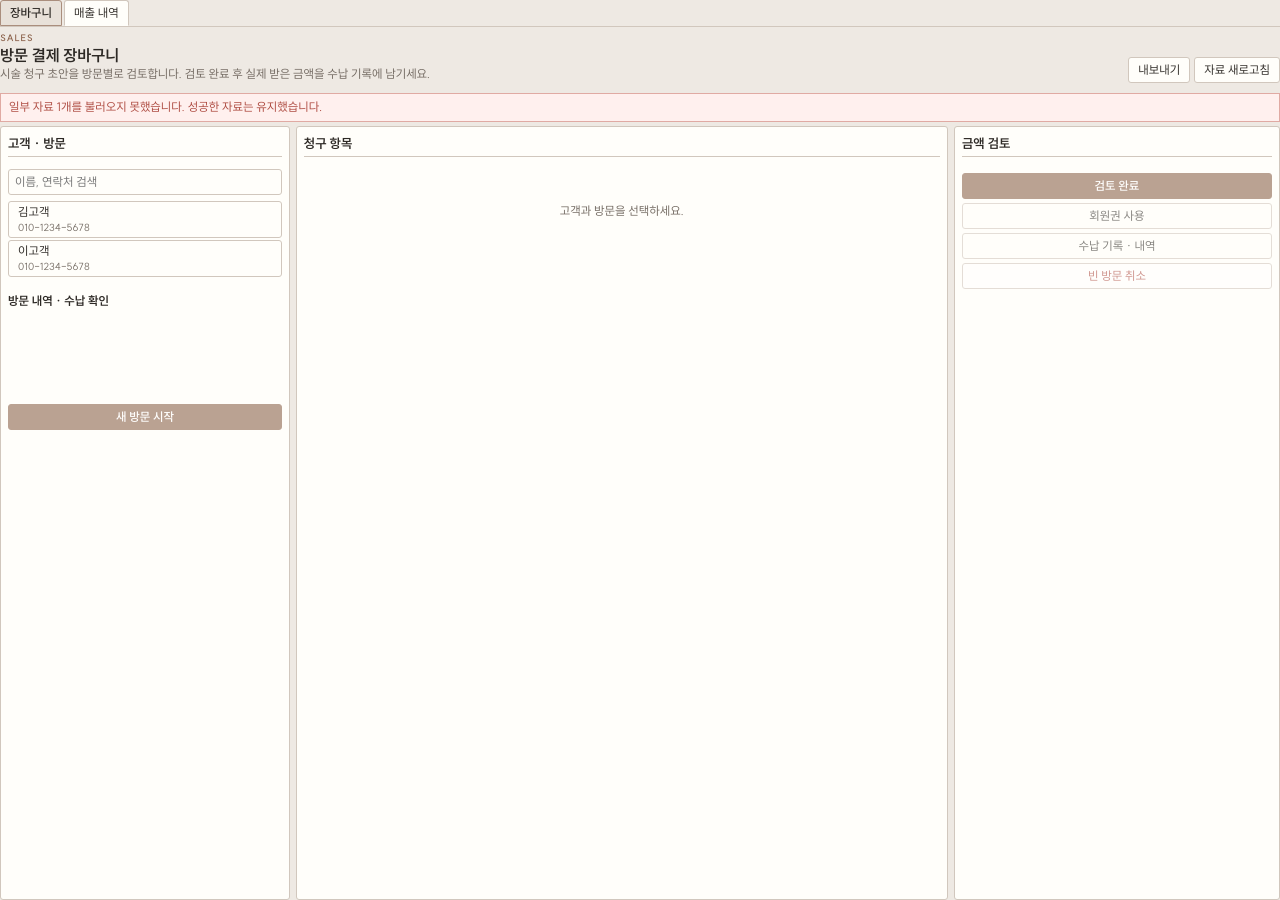
Test: 매출 내역 탭 › 잘못된 조건은 요청하지 않고 안내하며, 초기화하면 조건 없이 다시 조회한다
Expected: the heading "방문 결제 장바구니" is shown, [0,45,119,65]
Click the tab "매출 내역" at (96, 13), box [64,0,129,26]
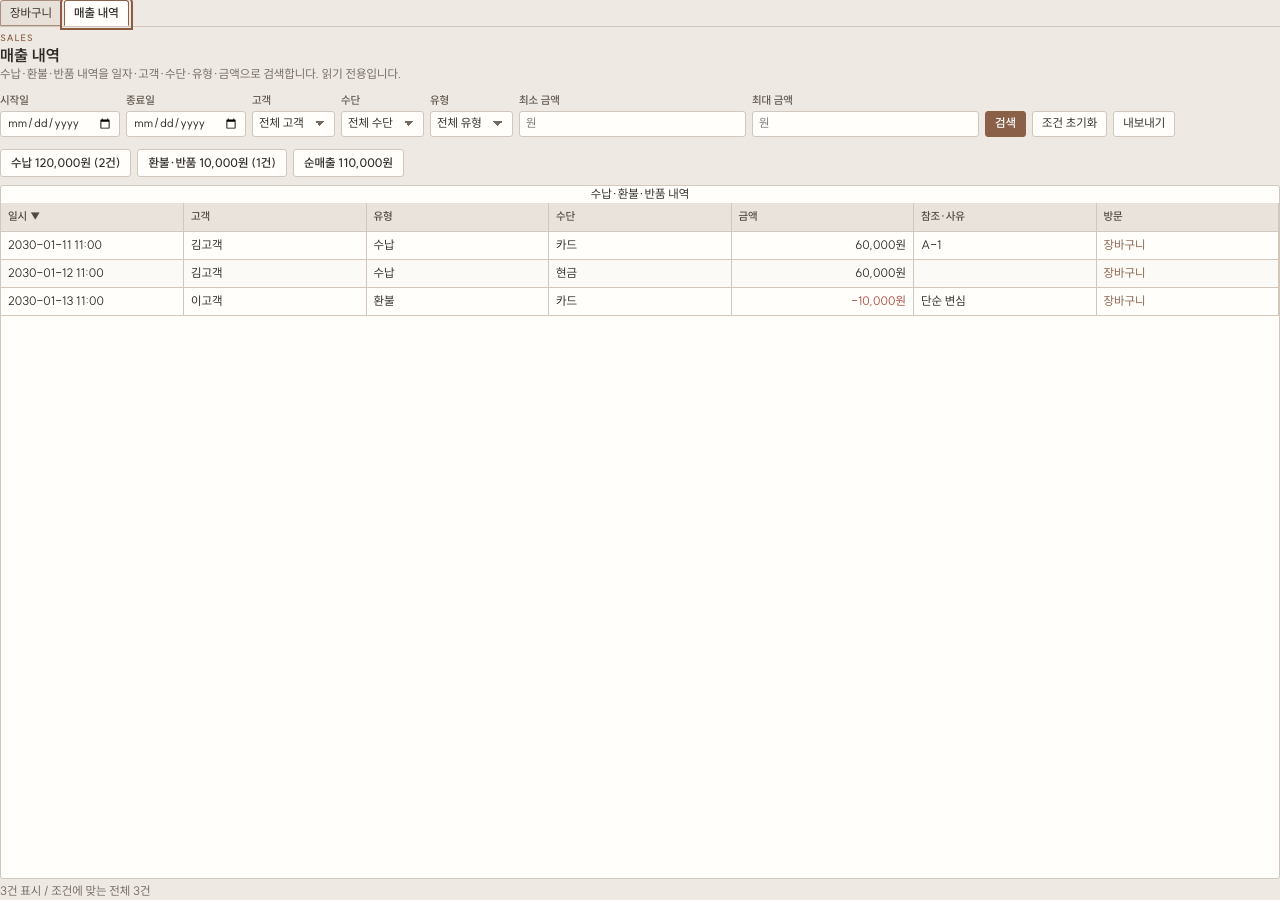
Result: the text "A-1" is shown at [914,231,1096,259]
Type "500" into the field labelled "최소 금액" at (632, 124), box [519,111,746,137]
Type "100" into the field labelled "최대 금액" at (866, 124), box [752,111,979,137]
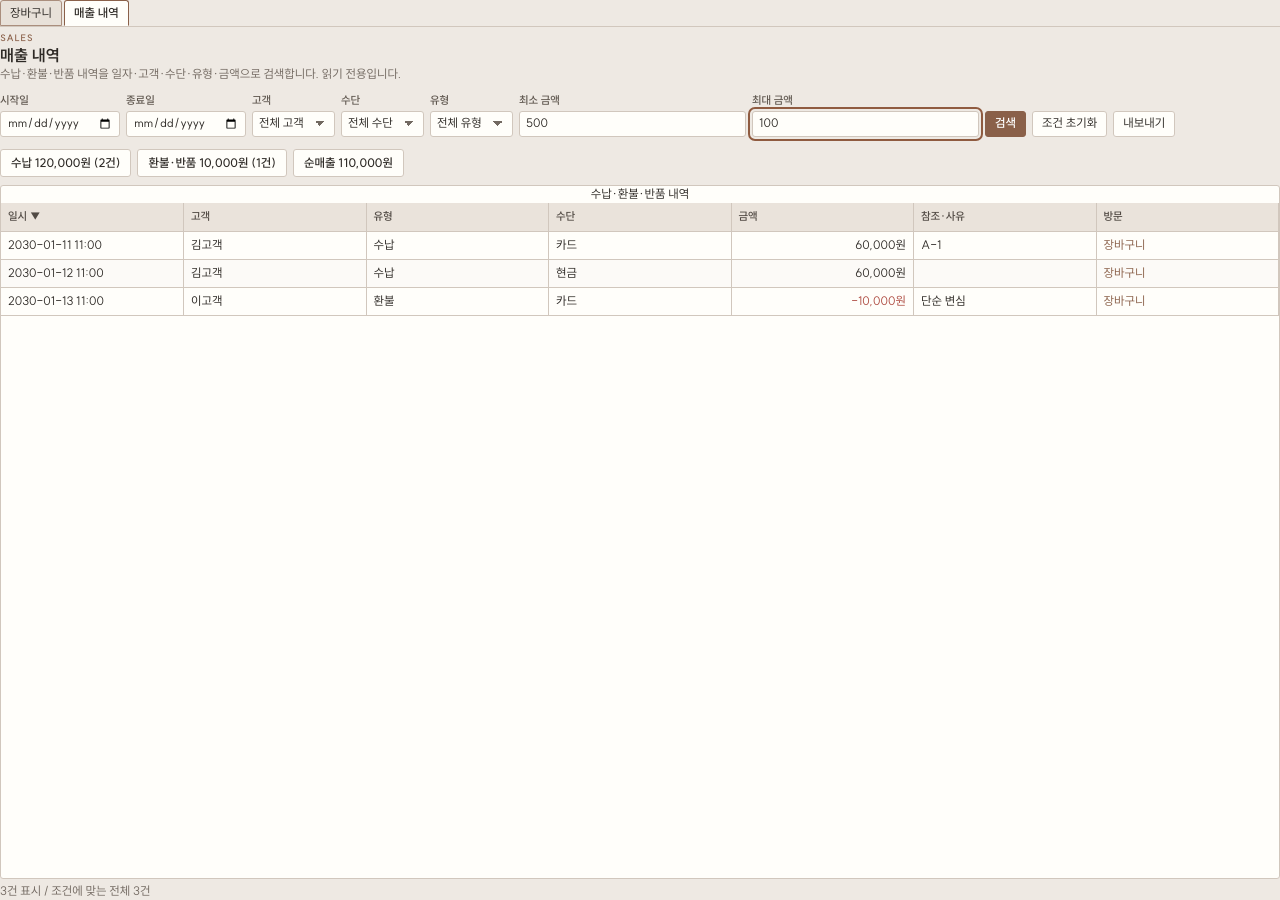
Click the button "검색" at (1006, 124), box [985,111,1026,137]
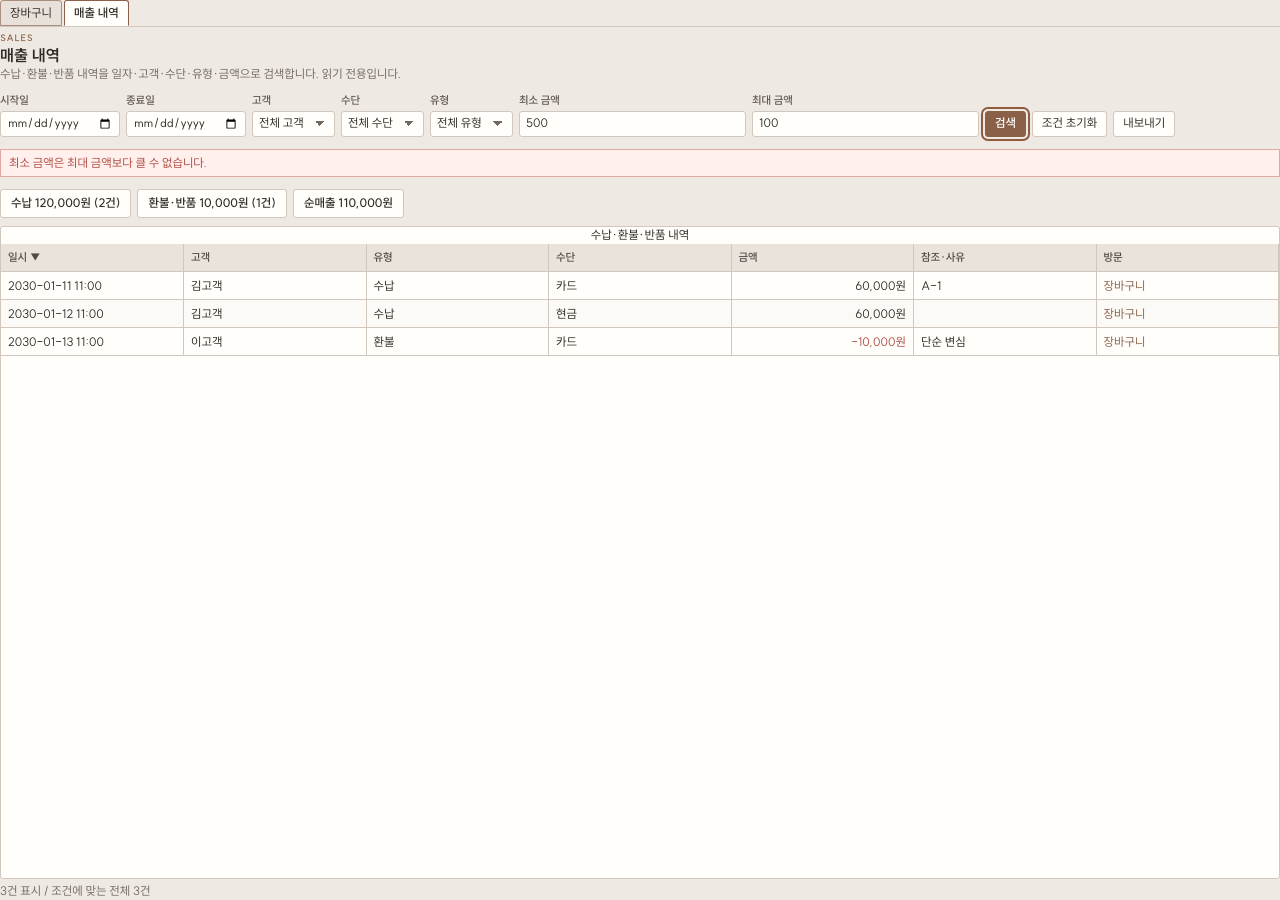
Result: the text "최소 금액은 최대 금액보다 클 수 없습니다." is shown at [0,149,1279,177]
Replace the text in the field labelled "최대 금액" with "x" at (866, 124), box [752,111,979,137]
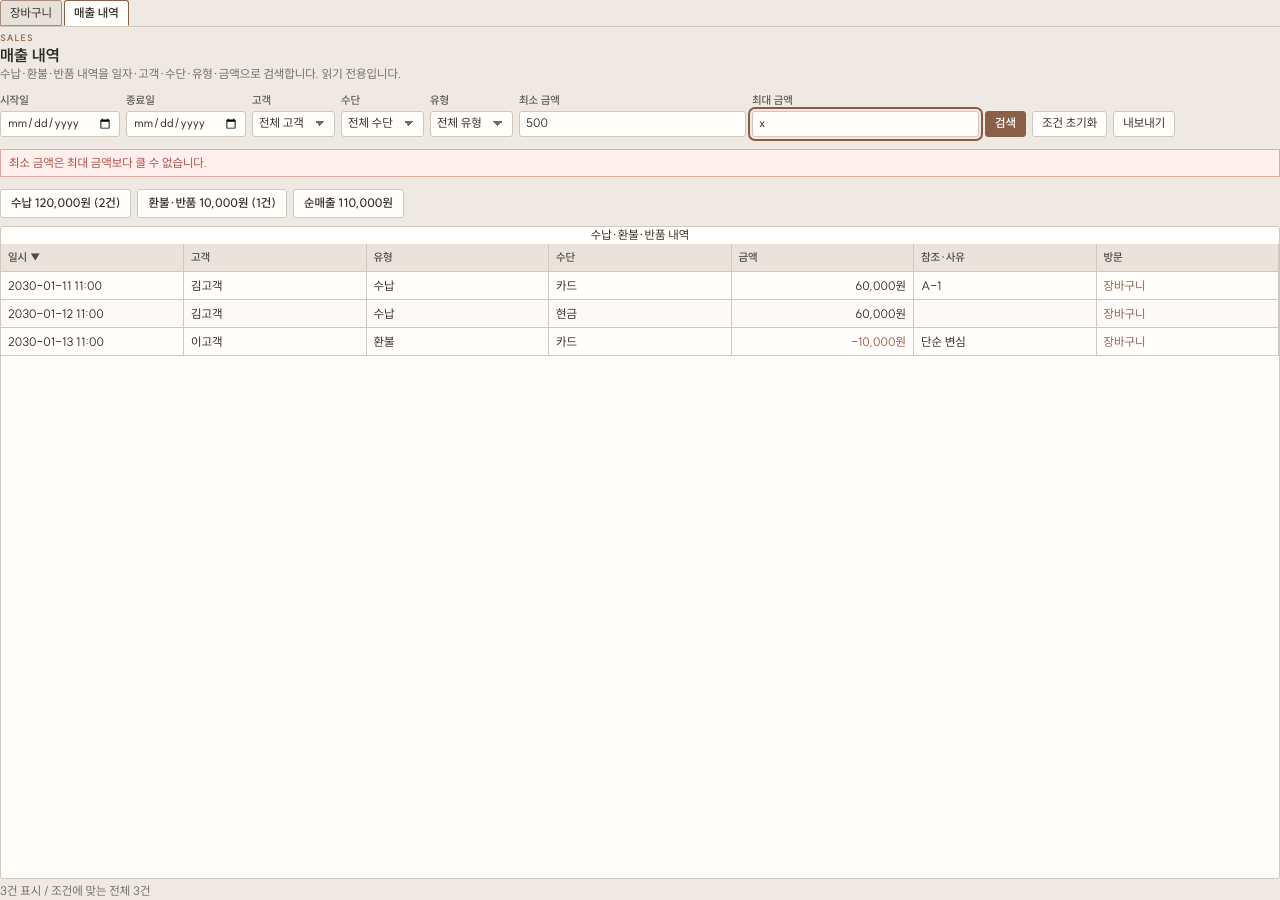
Click the button "검색" at (1006, 124), box [985,111,1026,137]
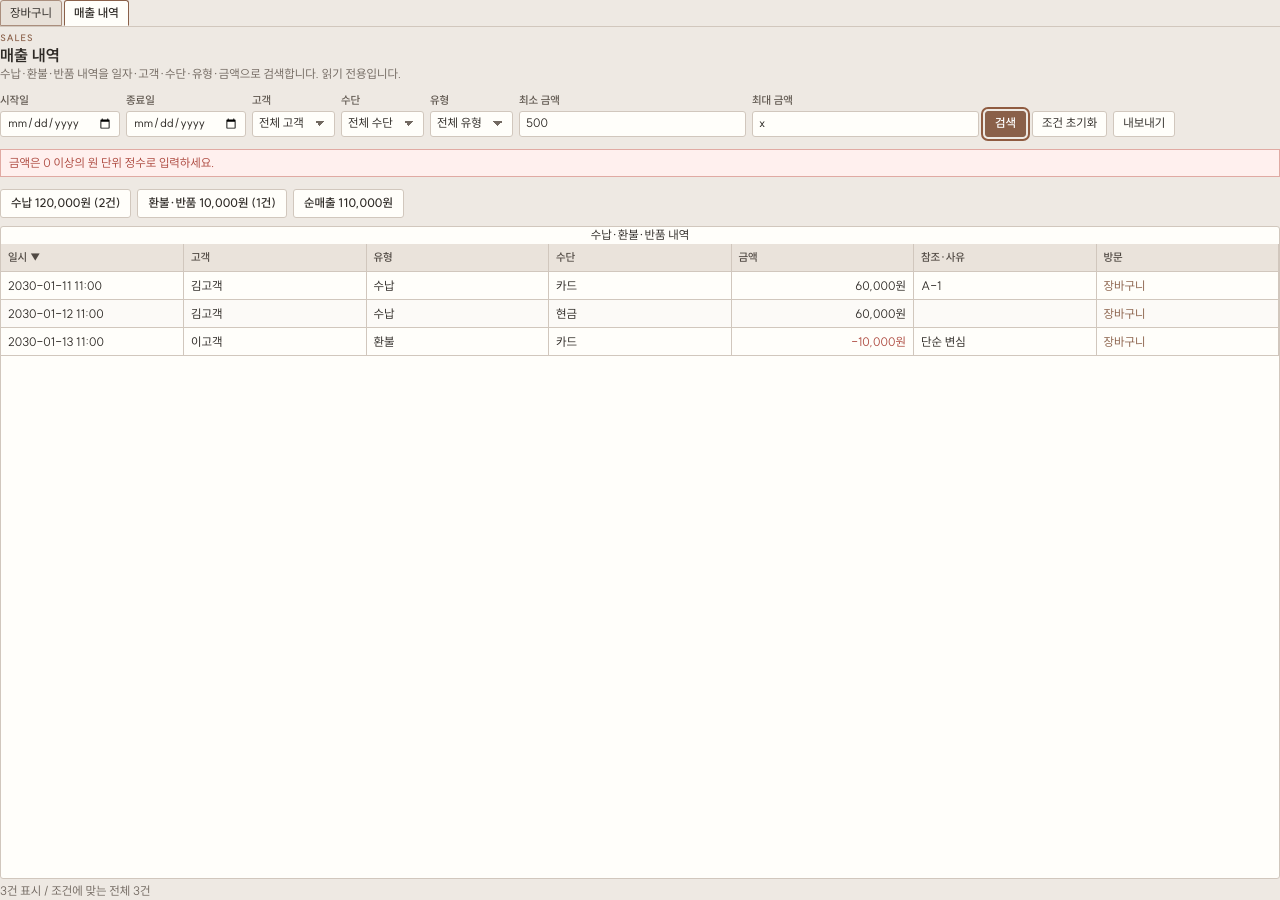
Result: the text "금액은 0 이상의 원 단위 정수로 입력하세요." is shown at [0,149,1279,177]
Click the button "조건 초기화" at (1070, 124), box [1032,111,1107,137]
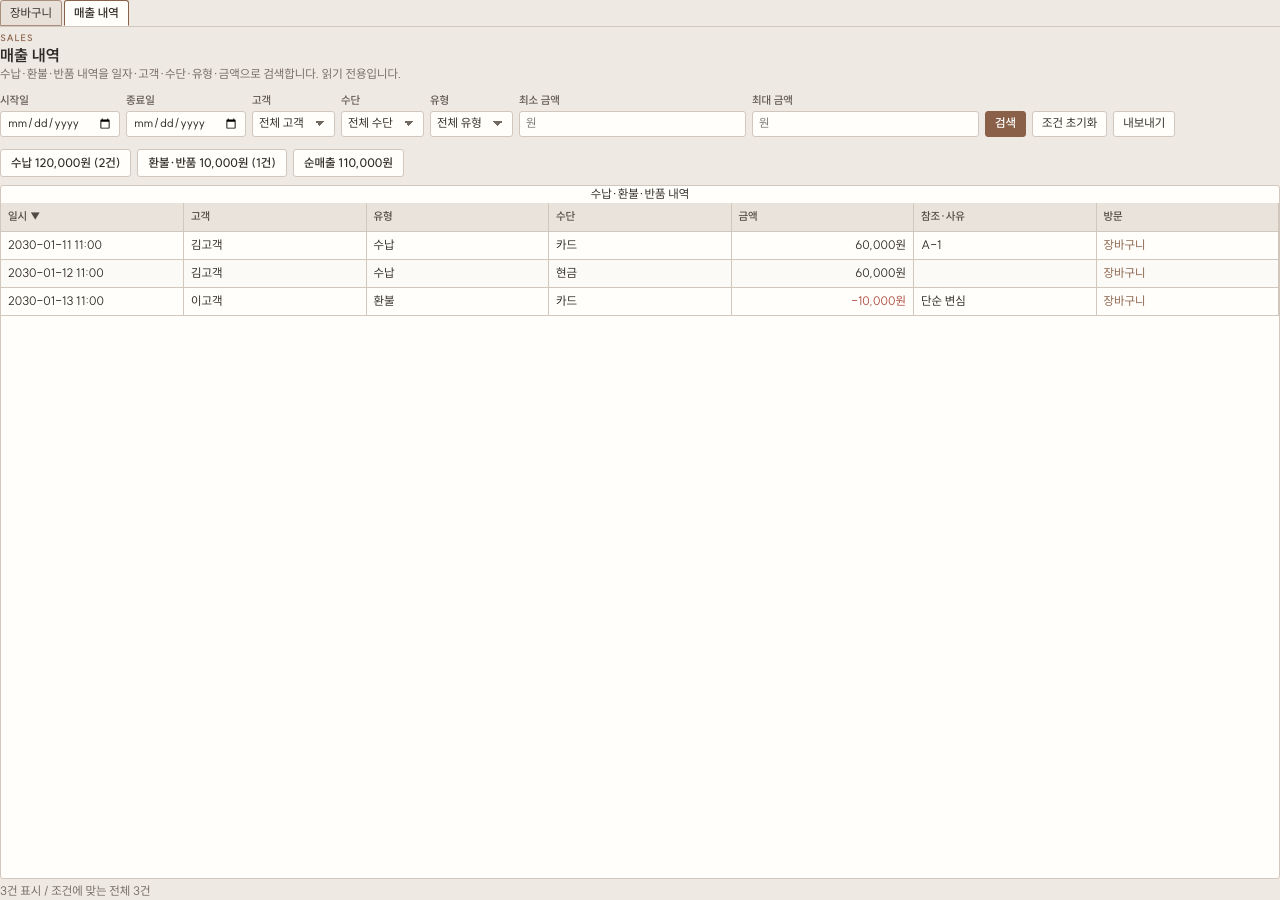
Result: the field labelled "최소 금액" is empty at [519,111,746,137]
Result: the text "금액은 0 이상의 원 단위 정수로 입력하세요." is gone
